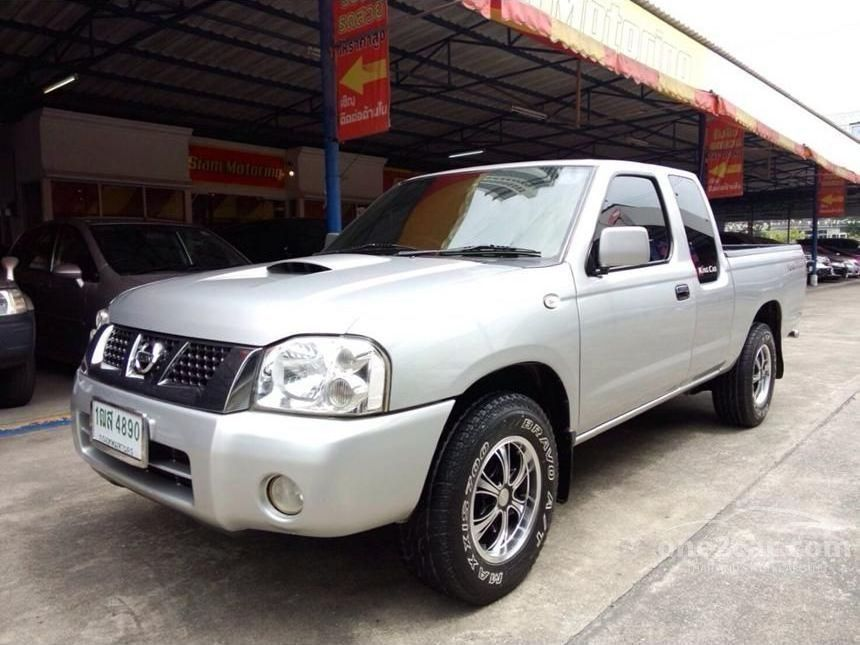pickup: (55, 151, 813, 607)
